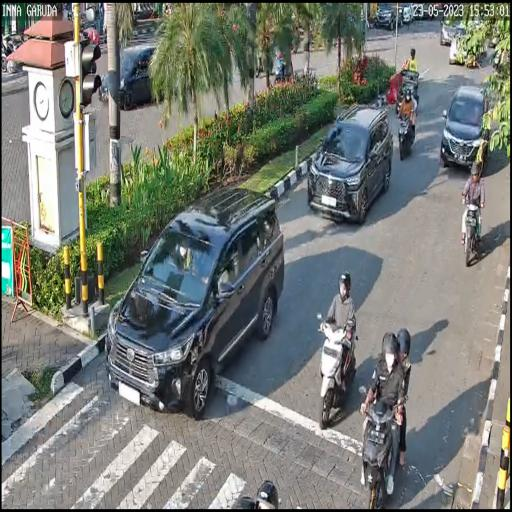mobil: (106, 180, 290, 422), (310, 95, 393, 220), (442, 83, 488, 180)
motor: (357, 376, 410, 507), (314, 307, 358, 430), (458, 190, 486, 269), (394, 107, 418, 161)
